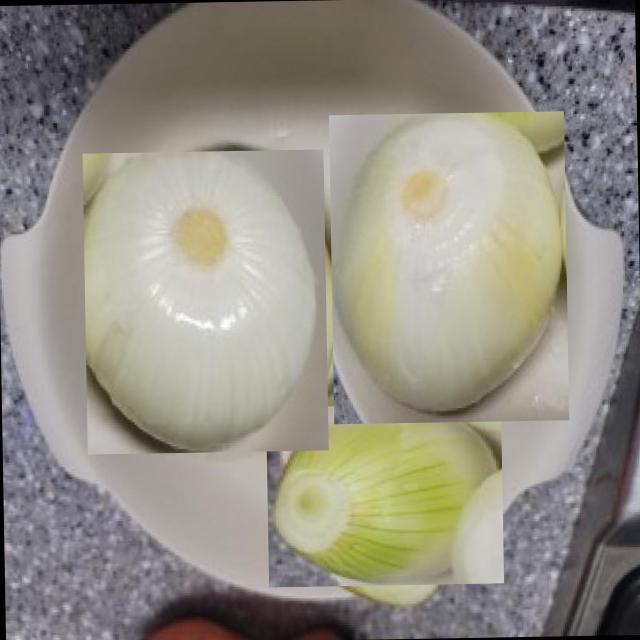Onion: (328, 110, 570, 424), (82, 149, 329, 455), (279, 389, 491, 601)
